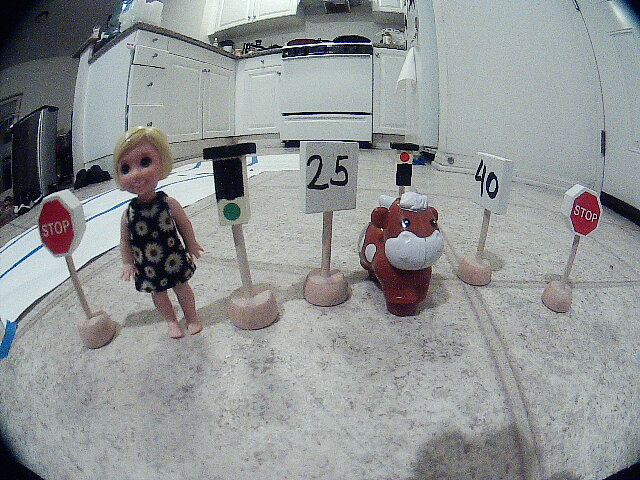Cow: (353, 196, 455, 329)
Green Traffic Light: (191, 135, 274, 241)
Person: (92, 134, 225, 351)
Red Traffic Light: (388, 134, 428, 192)
Speed Limit 25: (292, 130, 371, 228)
Speed Limit 40: (467, 146, 515, 226)
Stop Sign: (26, 183, 97, 265), (555, 181, 611, 250)
